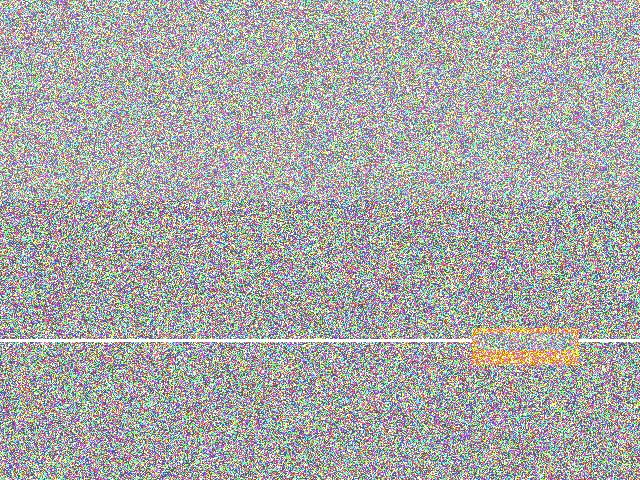car: (247, 224, 362, 365), (325, 252, 452, 324)
motorcycle: (121, 139, 223, 237)
